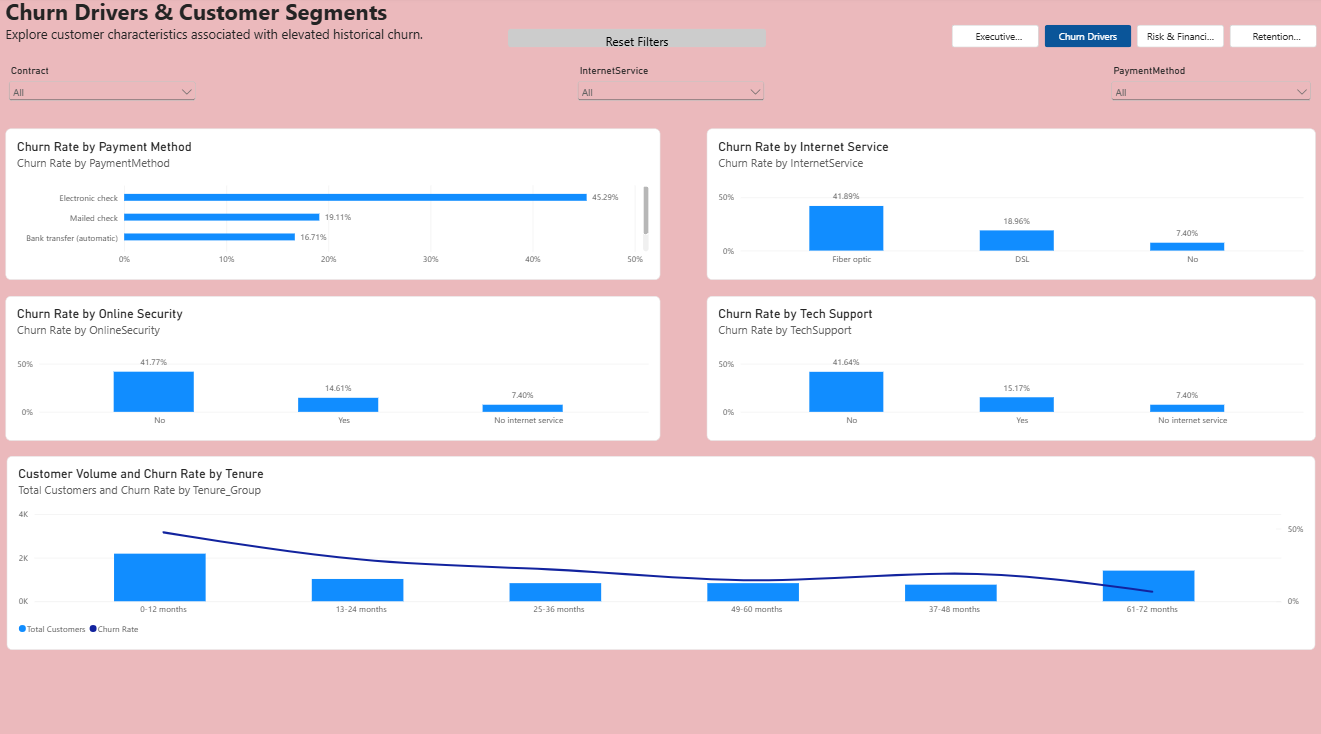

The dashboard page shown, as its layout file describes it:
{"tool":"powerbi","page":{"name":"Churn Drivers","canvas":[1920,1080],"ordinal":1},"visuals":[{"type":"textbox","box":[10.9,0,1894.7,114],"z":0},{"type":"clusteredBarChart","title":"Churn Rate by Payment Method","fields":{"Category":["Customer_Churn.PaymentMethod"],"Y":["Customer_Churn.Churn Rate"]},"box":[10.9,191.8,948.3,219],"z":1000},{"type":"clusteredColumnChart","title":"Churn Rate by Internet Service","fields":{"Category":["Customer_Churn.InternetService"],"Y":["Customer_Churn.Churn Rate"]},"box":[1026.1,191.8,881.3,219],"z":2000},{"type":"clusteredColumnChart","title":"Churn Rate by Online Security","fields":{"Category":["Customer_Churn.OnlineSecurity"],"Y":["Customer_Churn.Churn Rate"]},"box":[10.9,434.3,948.3,209.9],"z":3000},{"type":"clusteredColumnChart","title":"Churn Rate by Tech Support","fields":{"Category":["Customer_Churn.TechSupport"],"Y":["Customer_Churn.Churn Rate"]},"box":[1026.1,434.3,881.3,209.9],"z":4000},{"type":"lineClusteredColumnComboChart","title":"Customer Volume and Churn Rate by Tenure","fields":{"Category":["Customer_Churn.Tenure_Group"],"Y":["Customer_Churn.Total Customers"],"Y2":["Customer_Churn.Churn Rate"]},"box":[12.7,666,1894.7,280.5],"z":5000},{"type":"slicer","fields":{"Values":["Customer_Churn.Contract"]},"box":[10.9,99.5,280,280],"z":6000},{"type":"slicer","fields":{"Values":["Customer_Churn.InternetService"]},"box":[834.3,99.5,280,279],"z":7000},{"type":"slicer","fields":{"Values":["Customer_Churn.PaymentMethod"]},"box":[1607,99.5,298.6,229.8],"z":8000},{"type":"pageNavigator","box":[1380.5,41.5,528.4,33.2],"z":8001},{"type":"actionButton","box":[739.1,47.2,373.5,27.5],"z":8002}]}

Visuals, with their boxes in screenshot pixels (x1, y1, x2, y2), scaled from the page's 1920x1080 canvas onto the 1321x734 screenshot:
textbox: box=[7, 0, 1311, 77]
"Churn Rate by Payment Method" clusteredBarChart: box=[7, 130, 660, 279]
"Churn Rate by Internet Service" clusteredColumnChart: box=[706, 130, 1312, 279]
"Churn Rate by Online Security" clusteredColumnChart: box=[7, 295, 660, 438]
"Churn Rate by Tech Support" clusteredColumnChart: box=[706, 295, 1312, 438]
"Customer Volume and Churn Rate by Tenure" lineClusteredColumnComboChart: box=[9, 453, 1312, 643]
slicer - Customer_Churn.Contract: box=[7, 68, 200, 258]
slicer - Customer_Churn.InternetService: box=[574, 68, 767, 257]
slicer - Customer_Churn.PaymentMethod: box=[1106, 68, 1311, 224]
pageNavigator: box=[950, 28, 1313, 51]
actionButton: box=[509, 32, 765, 51]
